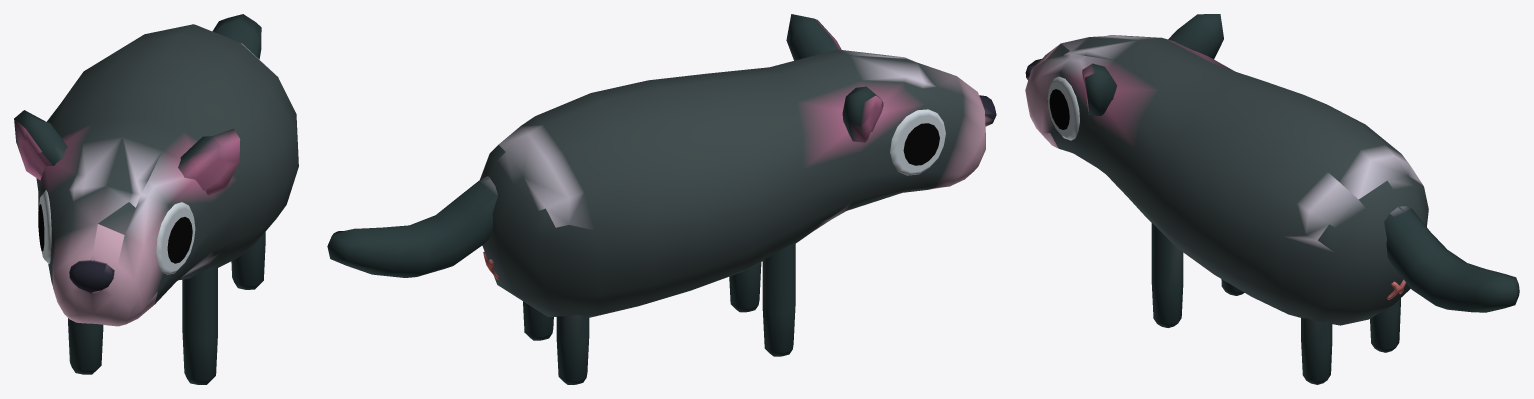
The model's file is TasmanianDevil.glb.
The picture shows the model from 3 angles, left to right: view 1: azimuth 30°, elevation 25°; view 2: azimuth 150°, elevation 25°; view 3: azimuth 270°, elevation 25°; orthographic projection. The views are drawn at different scales.
Visible parts, largest first — view 1: 164; view 2: 164; view 3: 164.
Boxes of the visible parts, left/top/right/bottom form: 164: left=14, top=14, right=298, bottom=384; 164: left=327, top=14, right=996, bottom=384; 164: left=1025, top=14, right=1519, bottom=384.
Size of the model in its own units: 0.9185 by 0.5573 by 1.
